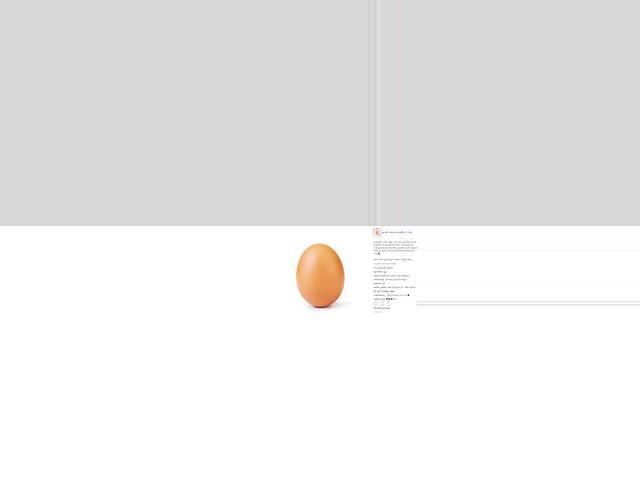egg: (296, 244, 344, 307)
